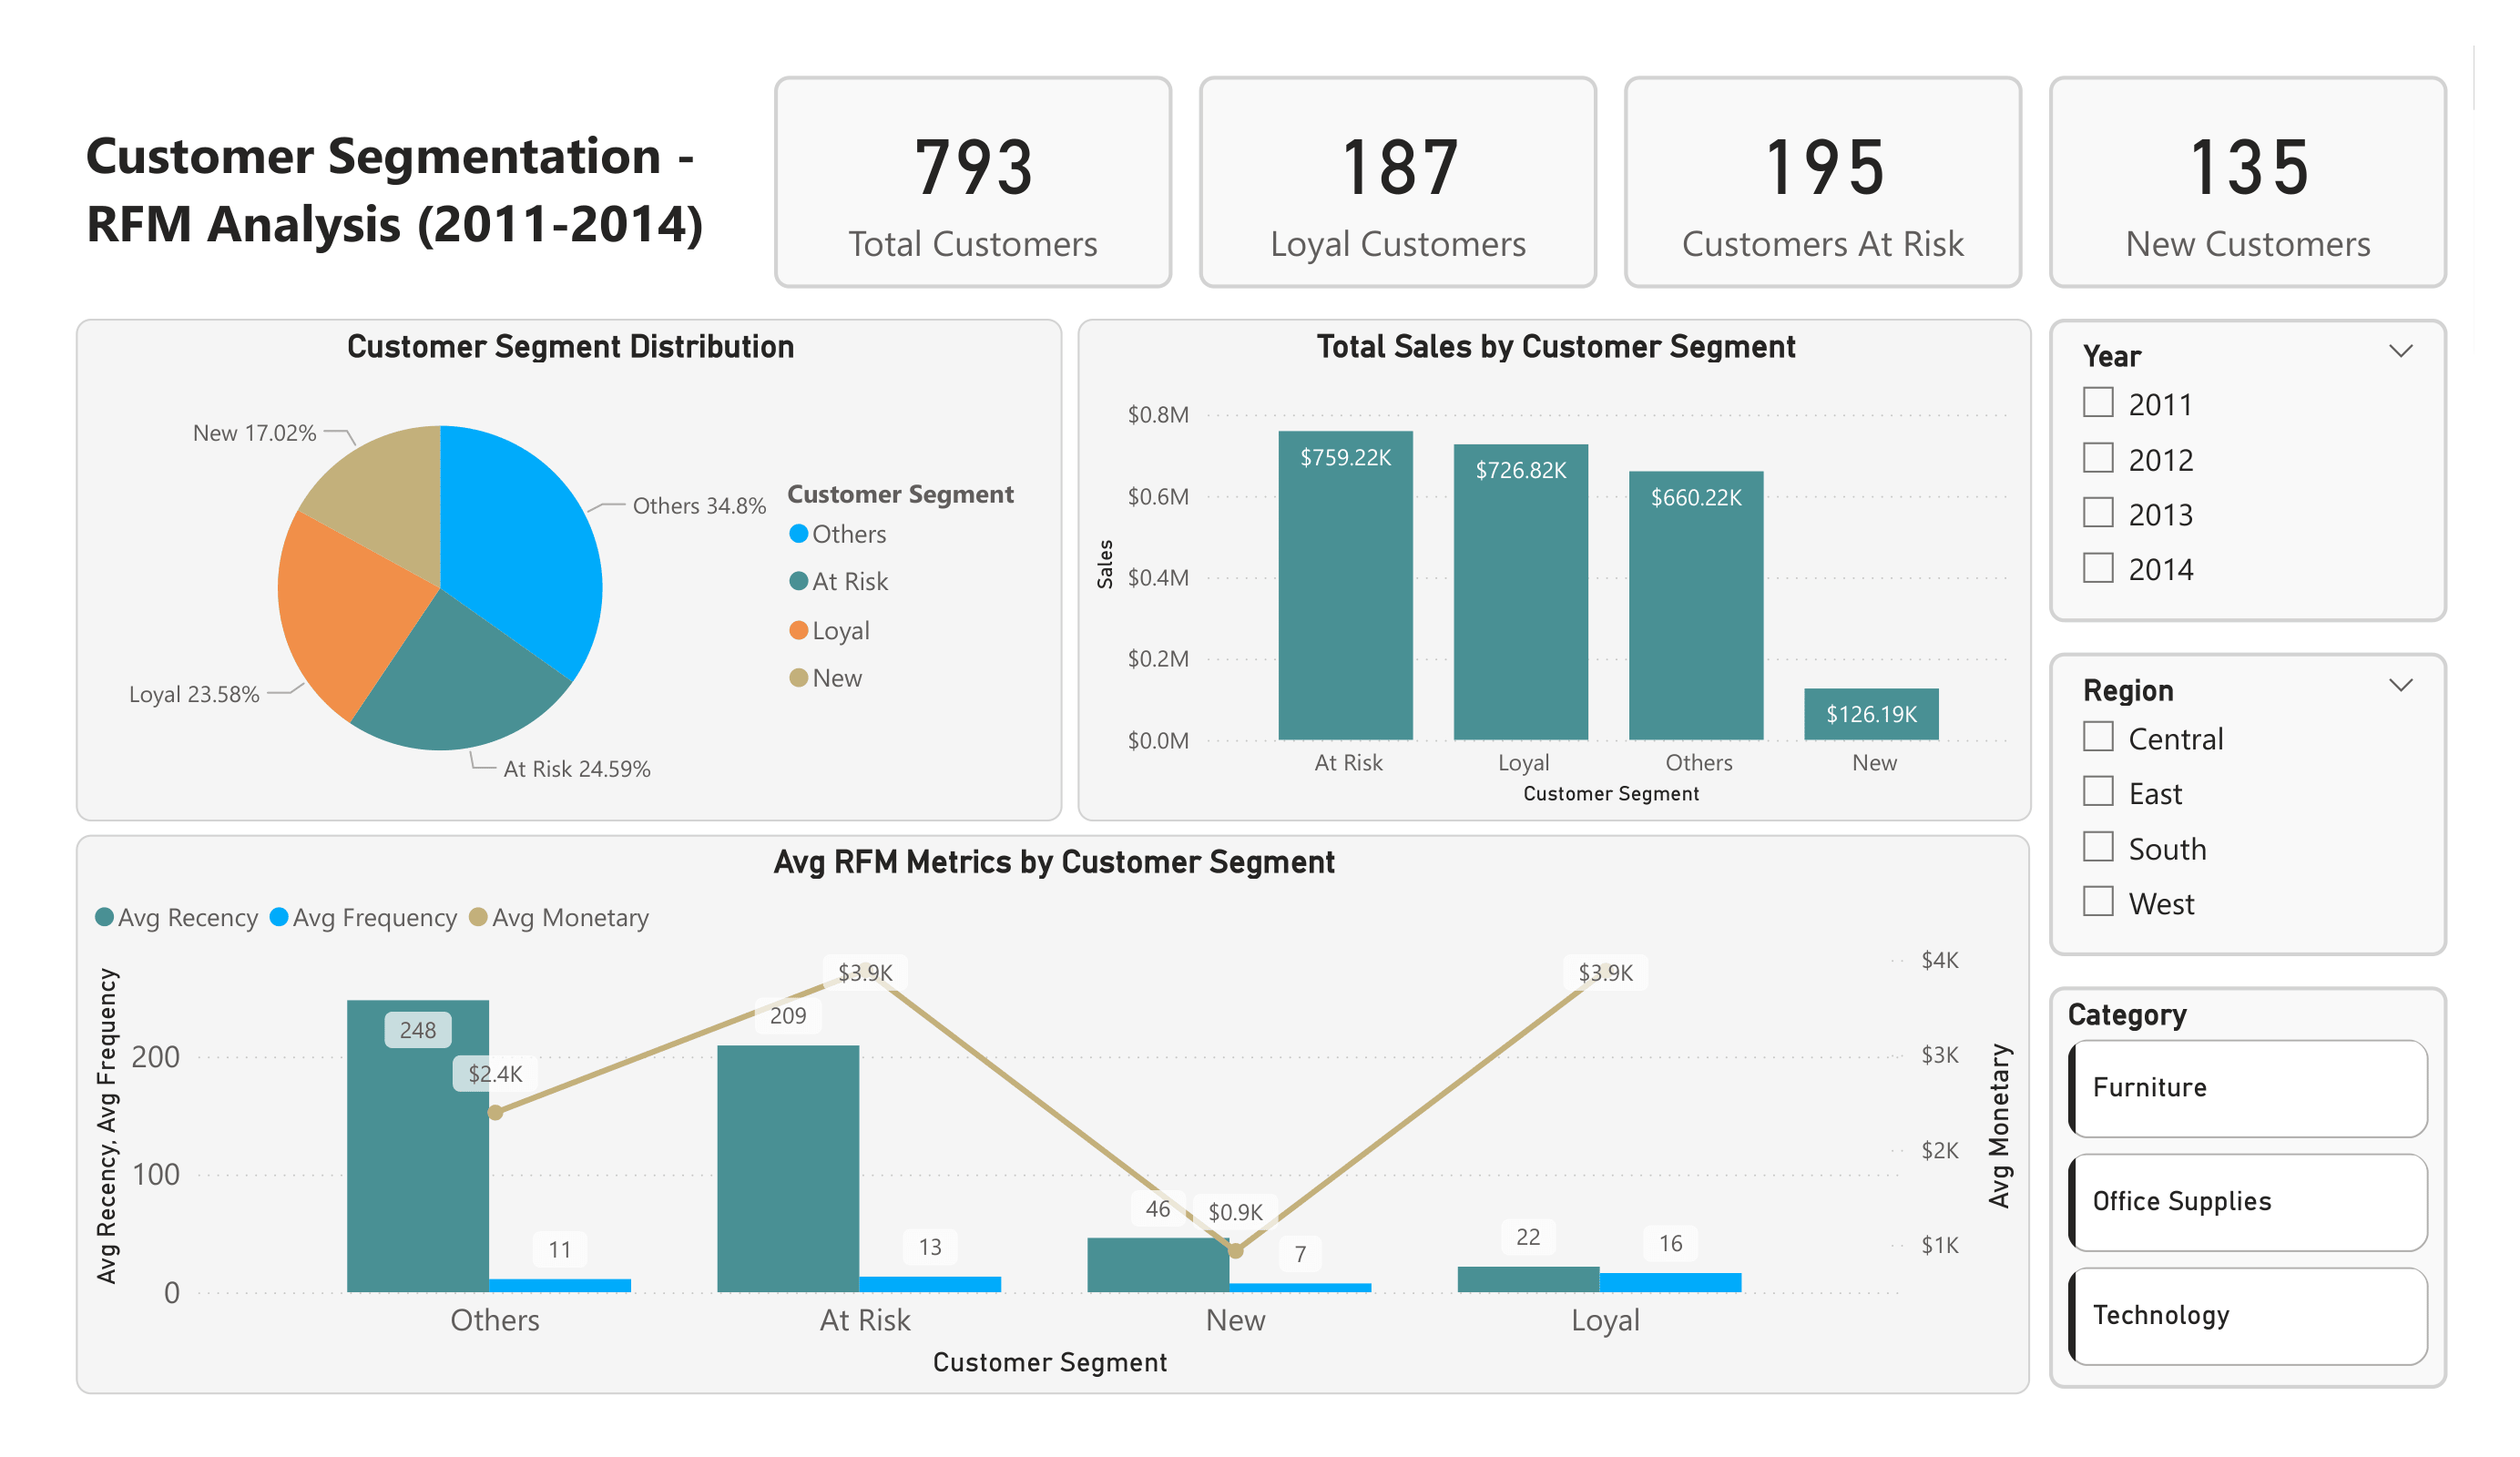

The page's visual inventory and layout, read from the dashboard file:
{"tool":"powerbi","page":{"name":"Page 3","canvas":[1280,720],"ordinal":2},"visuals":[{"type":"textbox","box":[16,16,352,112],"z":0},{"type":"card","fields":{"Values":["Customers_RFM.Total Customers"]},"box":[384,16,210,112],"z":1000},{"type":"card","fields":{"Values":["Customers_RFM.Loyal Customers"]},"box":[608,16,210,112],"z":2000},{"type":"card","fields":{"Values":["Customers_RFM.Customers At Risk"]},"box":[832,16,210,112],"z":3000},{"type":"card","fields":{"Values":["Customers_RFM.New Customers"]},"box":[1056,16,210,112],"z":4000},{"type":"pieChart","title":"Customer Segment Distribution","fields":{"Category":["Customers_RFM.Customer Segment"],"Y":["Customers_RFM.Total Customers"]},"box":[16,144,520,265],"z":5000},{"type":"clusteredColumnChart","title":"Total Sales by Customer Segment","fields":{"Category":["Customers_RFM.Customer Segment"],"Y":["Customers_RFM.Measure"]},"box":[544,144,503,265],"z":6000},{"type":"lineClusteredColumnComboChart","title":"Avg RFM Metrics by Customer Segment","fields":{"Category":["Customers_RFM.Customer Segment"],"Y":["Customers_RFM.Avg Recency","Customers_RFM.Avg Frequency"],"Y2":["Customers_RFM.Avg Monetary"]},"box":[16,416,1030,295],"z":7000},{"type":"slicer","fields":{"Values":["superstore_db orders.order_date.Variation.Date Hierarchy.Year"]},"box":[1056,144,210,160],"z":8000},{"type":"slicer","fields":{"Values":["superstore_db orders.region"]},"box":[1056,320,210,160],"z":9000},{"type":"advancedSlicerVisual","title":"Category","fields":{"Values":["superstore_db orders.category"]},"box":[1056,496,210,212],"z":10000}]}

Visuals, with their boxes in screenshot pixels (x1, y1, x2, y2):
textbox: Rect(76, 76, 744, 289)
card - Customers_RFM.Total Customers: Rect(774, 76, 1173, 289)
card - Customers_RFM.Loyal Customers: Rect(1199, 76, 1597, 289)
card - Customers_RFM.Customers At Risk: Rect(1625, 76, 2023, 289)
card - Customers_RFM.New Customers: Rect(2049, 76, 2448, 289)
"Customer Segment Distribution" pieChart: Rect(76, 319, 1063, 821)
"Total Sales by Customer Segment" clusteredColumnChart: Rect(1077, 319, 2033, 821)
"Avg RFM Metrics by Customer Segment" lineClusteredColumnComboChart: Rect(76, 835, 2030, 1394)
slicer - superstore_db orders.order_date.Variation.Date Hierarchy.Year: Rect(2049, 319, 2448, 622)
slicer - superstore_db orders.region: Rect(2049, 653, 2448, 956)
"Category" advancedSlicerVisual: Rect(2049, 986, 2448, 1389)
